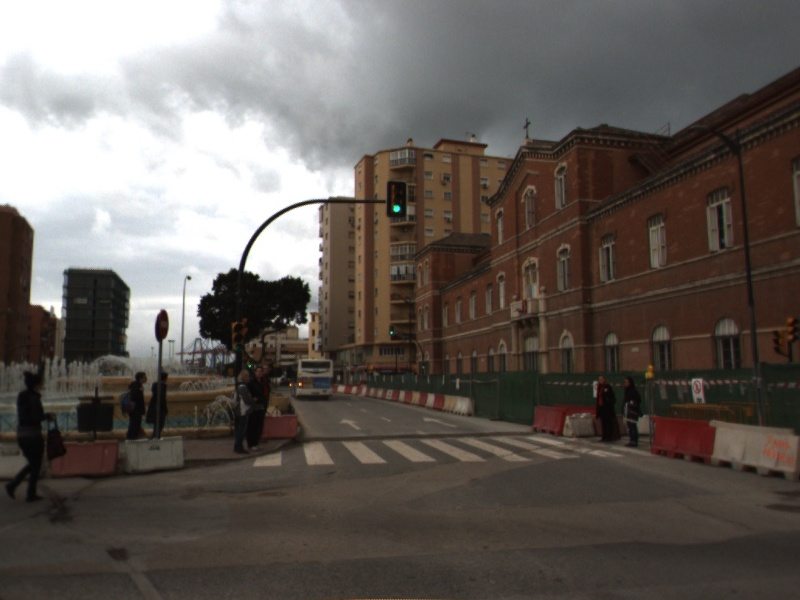STRAIGHT: (422, 415, 460, 430), (338, 417, 364, 431)
